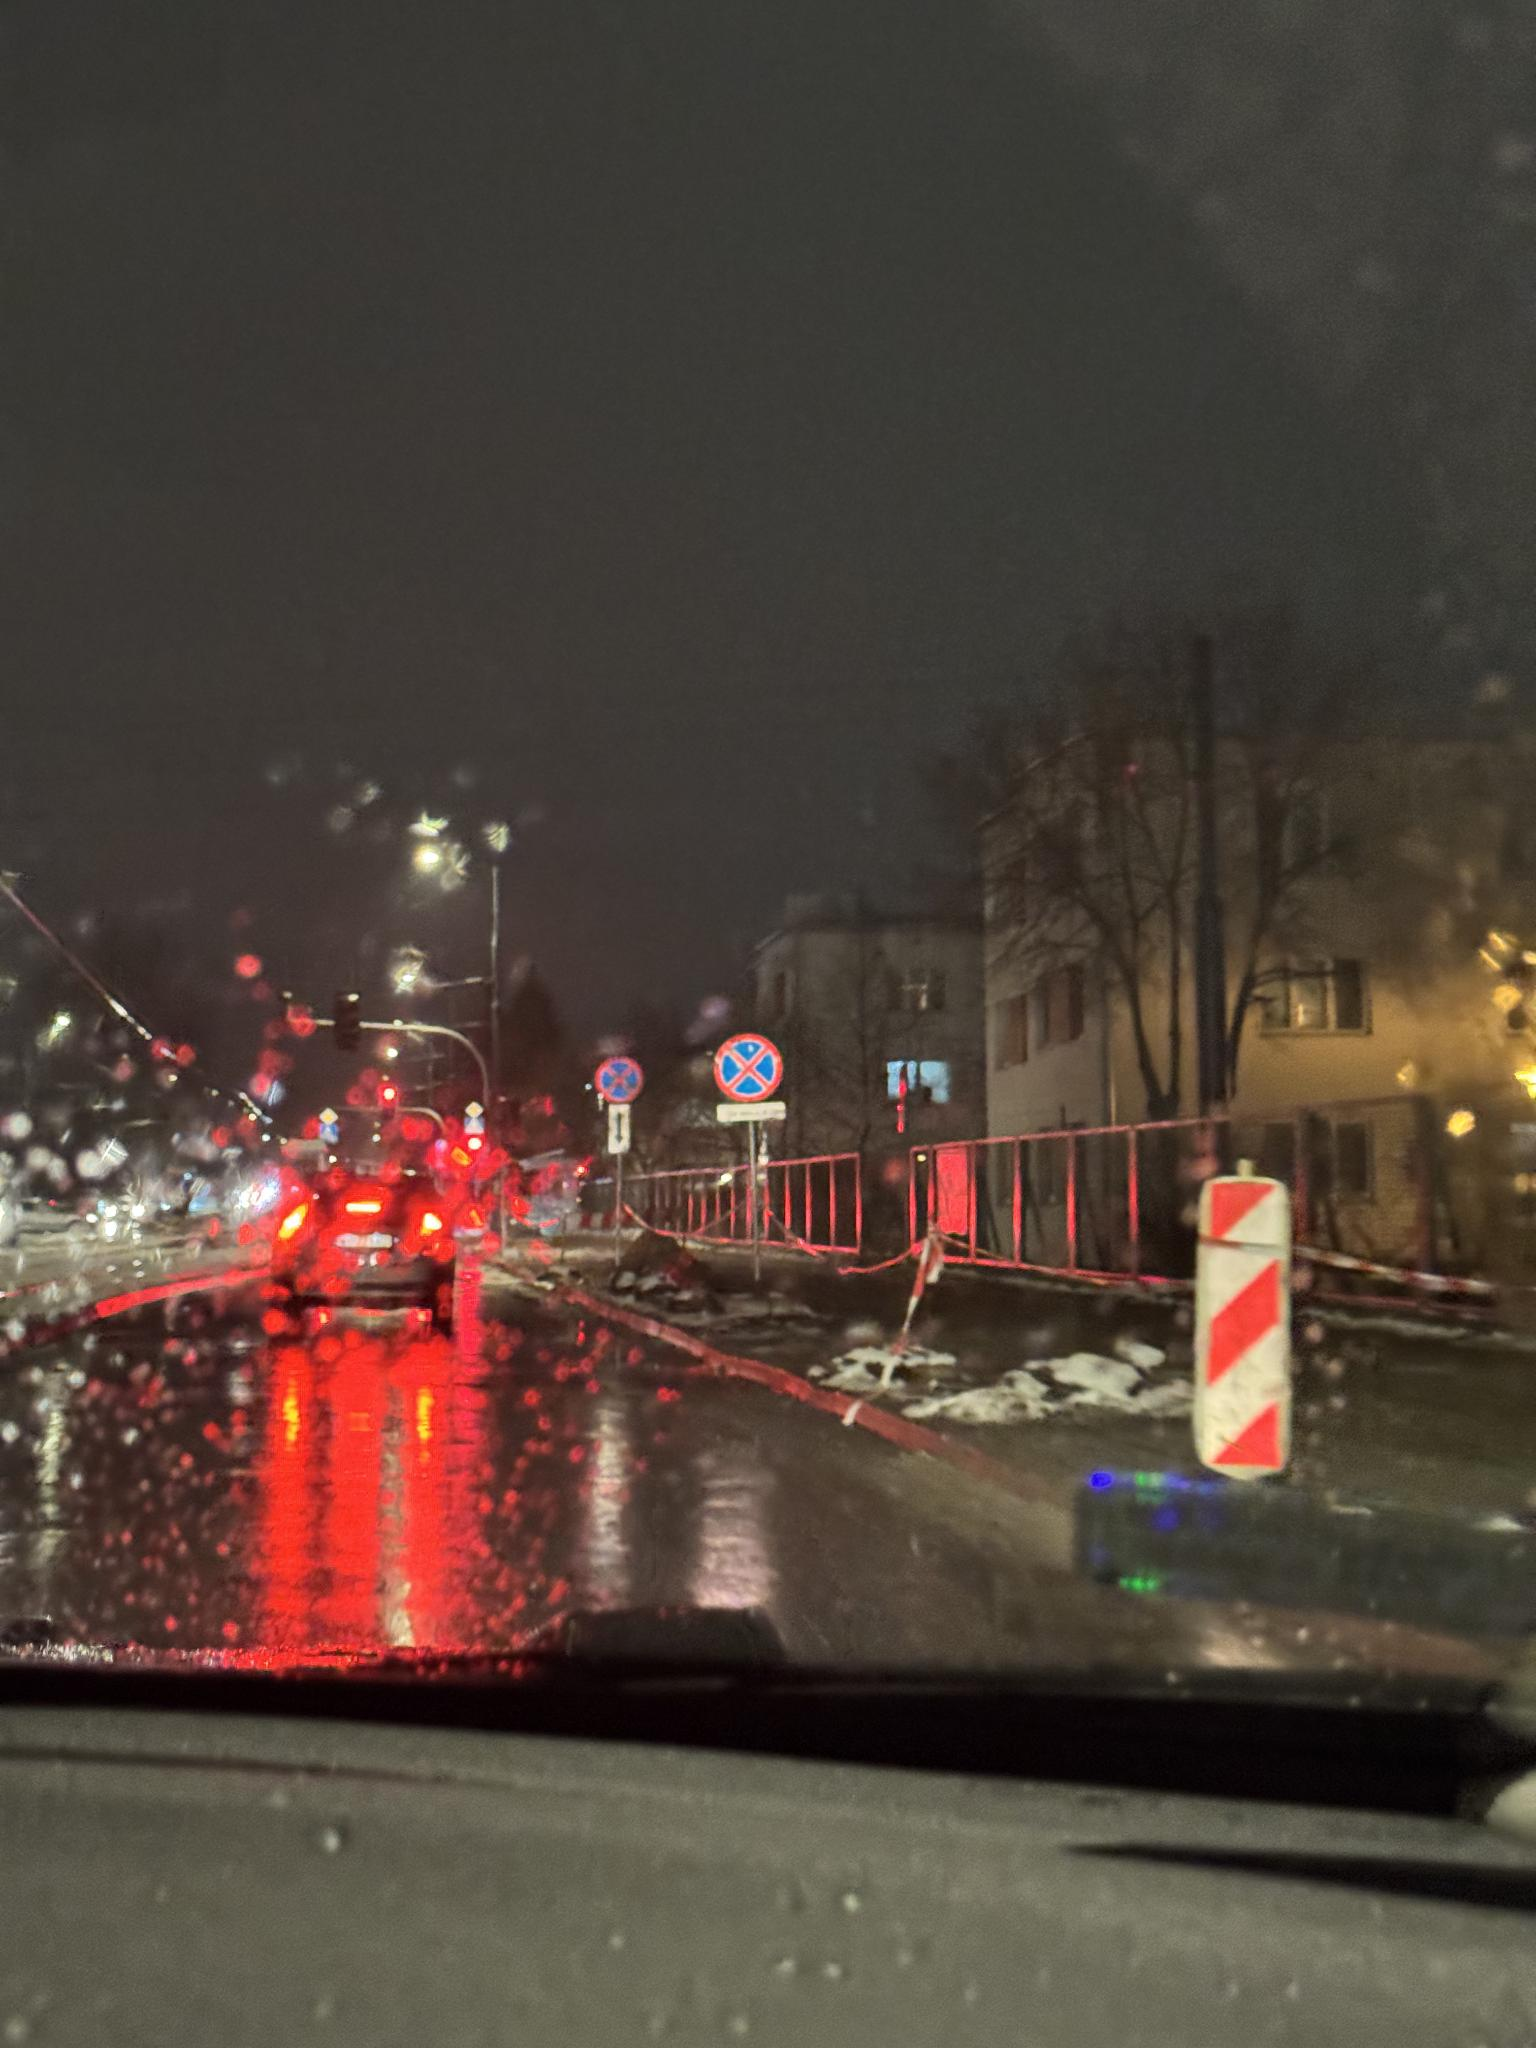information: (319, 1108, 339, 1124), (465, 1101, 484, 1118), (321, 1124, 337, 1142), (466, 1121, 484, 1134)
other: (718, 1103, 784, 1121), (608, 1103, 631, 1155)
prohibitory: (712, 1034, 784, 1105), (594, 1056, 644, 1103)
